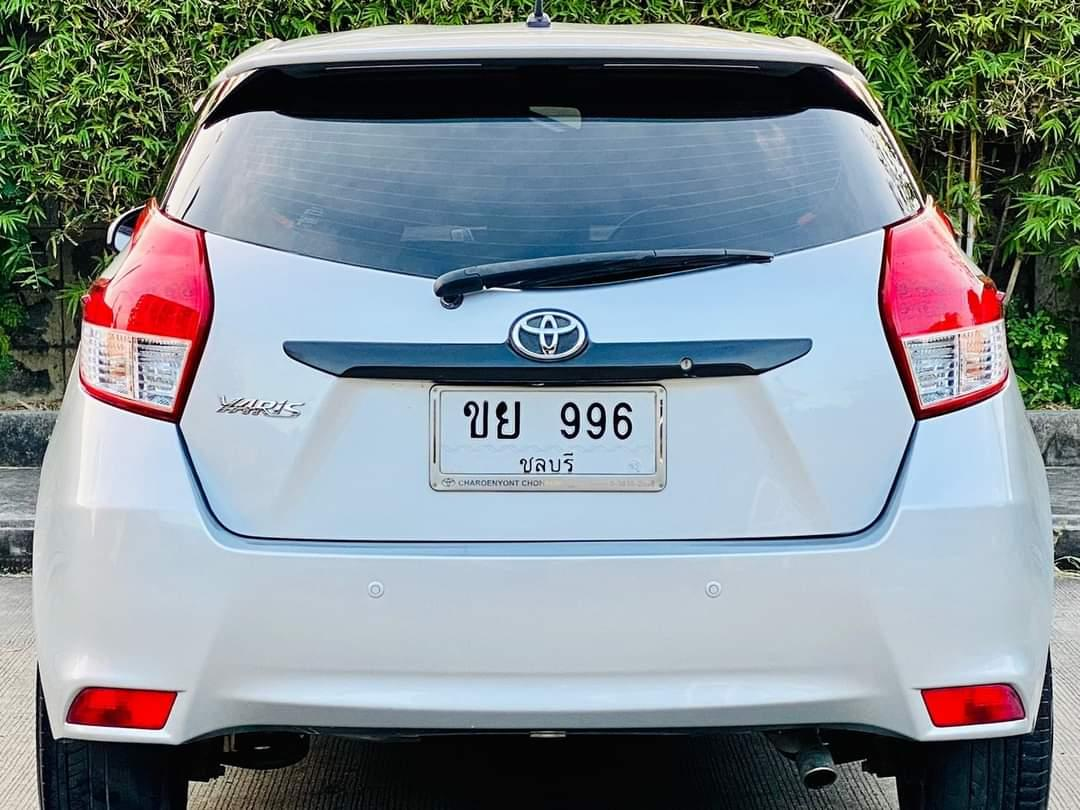license-plate: (424, 378, 671, 495)
